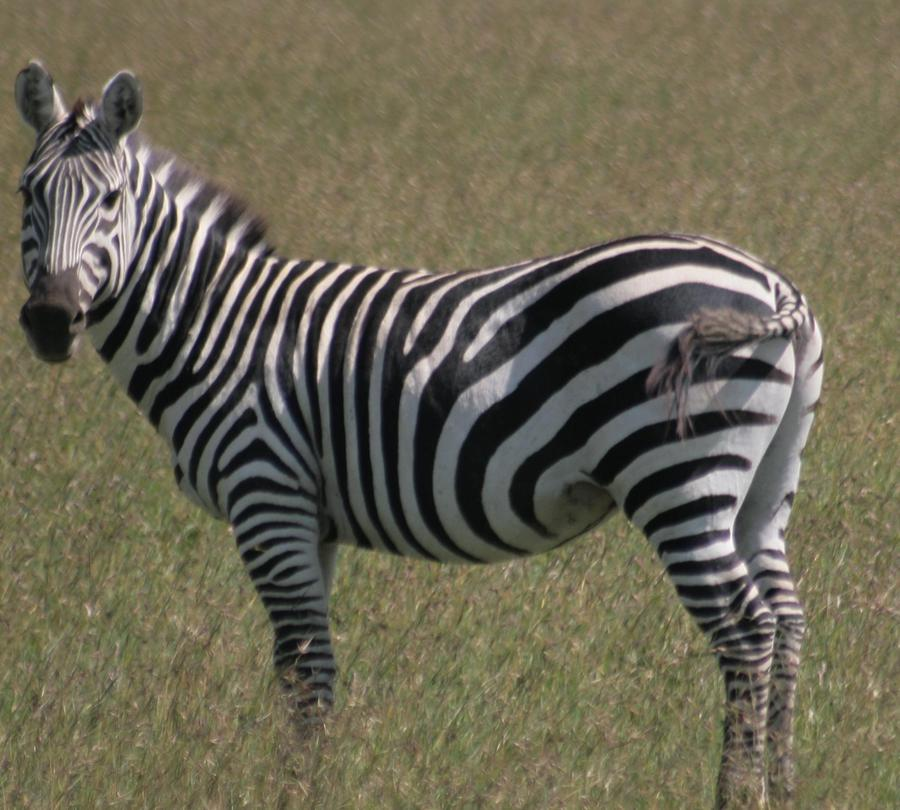zebra_plains: (174, 217, 785, 558)
